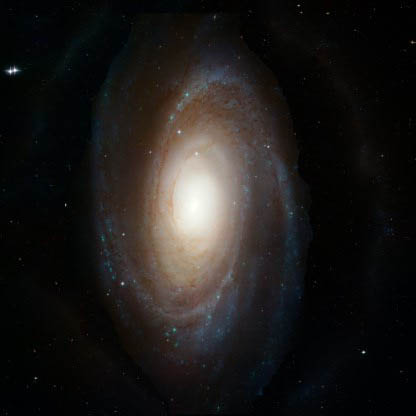Messier 81: (4, 22, 318, 381)
